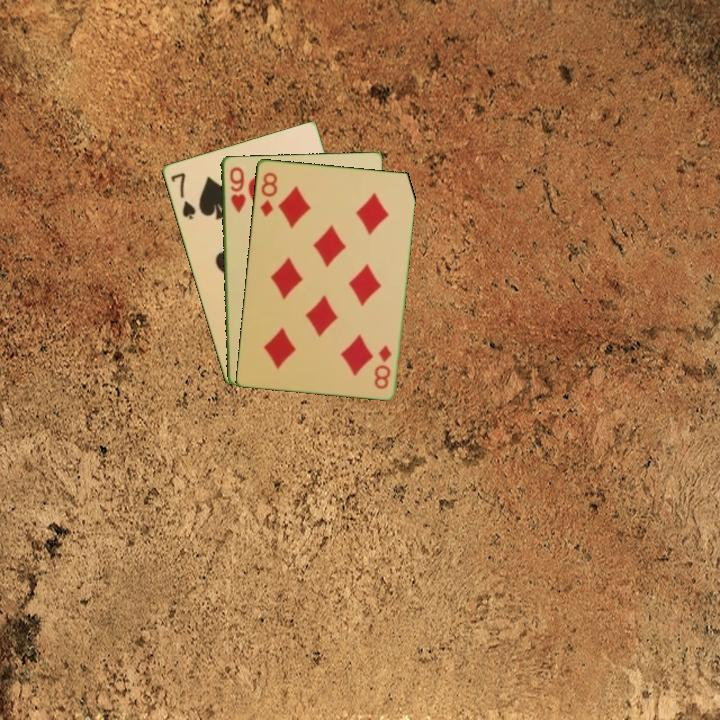7s: (167, 169, 198, 222)
8d: (256, 169, 280, 219), (371, 341, 394, 392)
9h: (226, 163, 248, 216)
